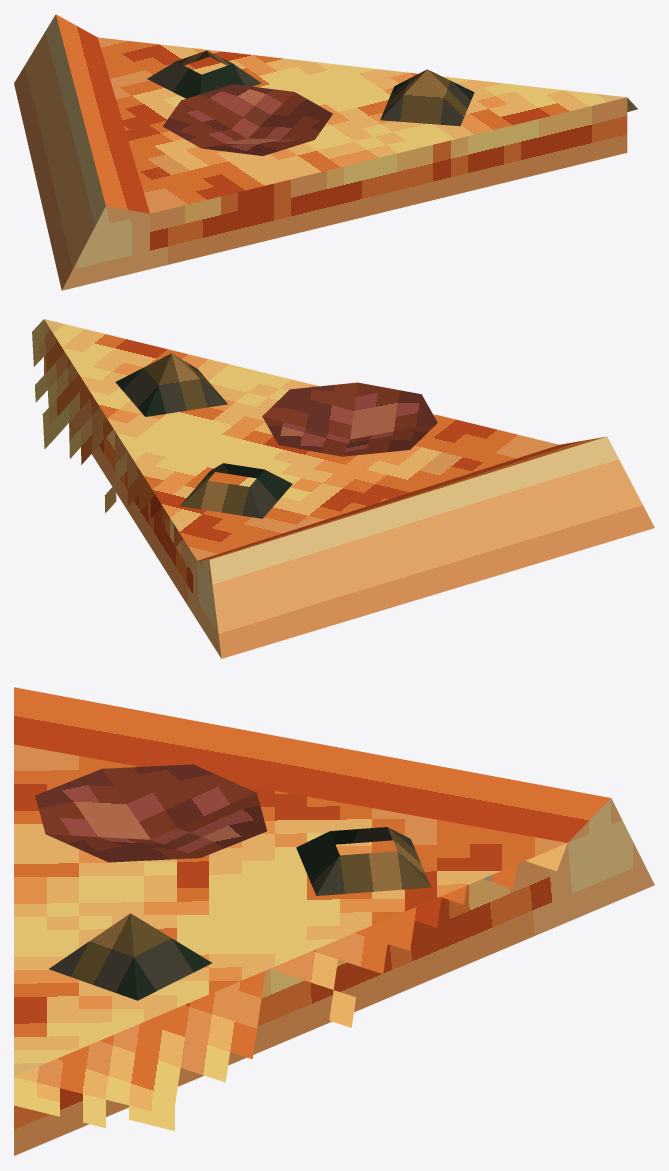
Rendered from pizza_slice.fbx.
3 renders of one model, top to bottom at view 1: azimuth 30°, elevation 25°; view 2: azimuth 150°, elevation 25°; view 3: azimuth 270°, elevation 25°, orthographic. The views are drawn at different scales.
Parts seen in each view (by area): view 1: PizzaSlice; view 2: PizzaSlice; view 3: PizzaSlice.
Part boxes in pixels (bbox=[...]): PizzaSlice: bbox=[14, 14, 637, 290]; PizzaSlice: bbox=[32, 319, 654, 658]; PizzaSlice: bbox=[14, 687, 654, 1155].
Bounding box in the file's own units: 105 × 30.6 × 68.75.
1 material, 1 textured.
